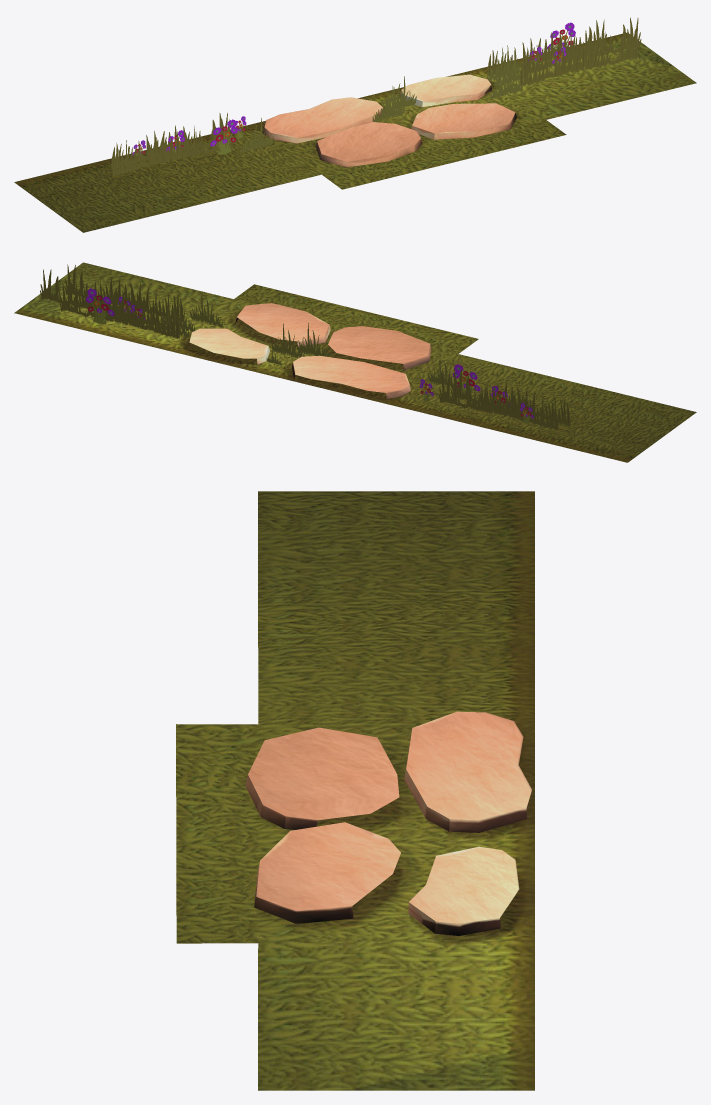
File: outsidehouse_grass.dae
3 renders of one model, top to bottom at view 1: azimuth 30°, elevation 25°; view 2: azimuth 150°, elevation 25°; view 3: azimuth 270°, elevation 25°, orthographic. The views are drawn at different scales.
Parts seen in each view (by area): view 1: Grass1, SteppingStones, Left_Grass08, Left_Grass02, Left_Grass04, Left_Grass06, Left_Grass01, Flowers11, Mid_Grass02, Mid_Grass07, Mid_Grass05, Mid_Grass01 (+2 smaller); view 2: Grass1, SteppingStones, Left_Grass01, Left_Grass06, Left_Grass08, Left_Grass02, Left_Grass04, Flowers20, Mid_Grass07, Mid_Grass01, Mid_Grass02, Flowers11 (+1 smaller); view 3: Grass1, SteppingStones.
Boxes of the visible parts, left/top/right/bottom form: Grass1: left=14, top=32, right=696, bottom=232; SteppingStones: left=263, top=74, right=516, bottom=167; Left_Grass08: left=519, top=29, right=638, bottom=85; Left_Grass02: left=113, top=119, right=232, bottom=175; Left_Grass04: left=523, top=17, right=641, bottom=73; Left_Grass06: left=487, top=19, right=607, bottom=76; Left_Grass01: left=111, top=113, right=230, bottom=169; Flowers11: left=210, top=119, right=237, bottom=154; Mid_Grass02: left=372, top=86, right=404, bottom=121; Mid_Grass07: left=490, top=63, right=523, bottom=99; Mid_Grass05: left=241, top=118, right=273, bottom=153; Mid_Grass01: left=384, top=76, right=416, bottom=112; Grass1: left=14, top=262, right=696, bottom=462; SteppingStones: left=188, top=303, right=431, bottom=399; Left_Grass01: left=438, top=373, right=558, bottom=430; Left_Grass06: left=59, top=282, right=179, bottom=338; Left_Grass08: left=64, top=264, right=183, bottom=321; Left_Grass02: left=450, top=369, right=570, bottom=425; Left_Grass04: left=40, top=269, right=158, bottom=325; Flowers20: left=85, top=288, right=114, bottom=324; Mid_Grass07: left=190, top=291, right=222, bottom=327; Mid_Grass01: left=271, top=323, right=304, bottom=357; Mid_Grass02: left=296, top=323, right=328, bottom=356; Flowers11: left=452, top=364, right=480, bottom=398; Grass1: left=176, top=491, right=534, bottom=1090; SteppingStones: left=245, top=711, right=531, bottom=935.
Size of the model in its own units: 31.36 by 1.97 by 7.94.
9 materials, 9 textured.
